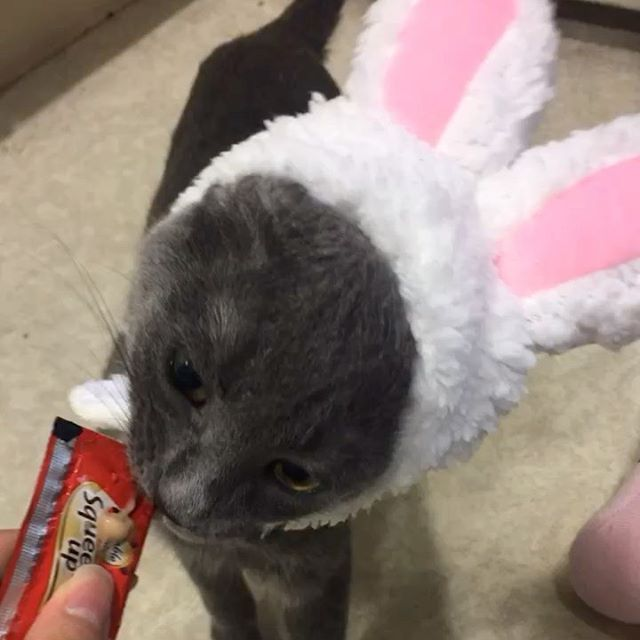cat: (103, 177, 479, 553)
